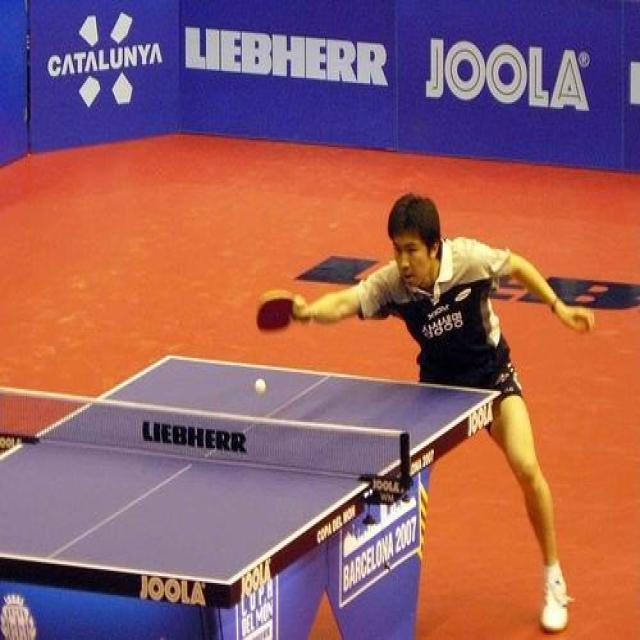ping-pong-ball: (254, 379, 266, 396)
